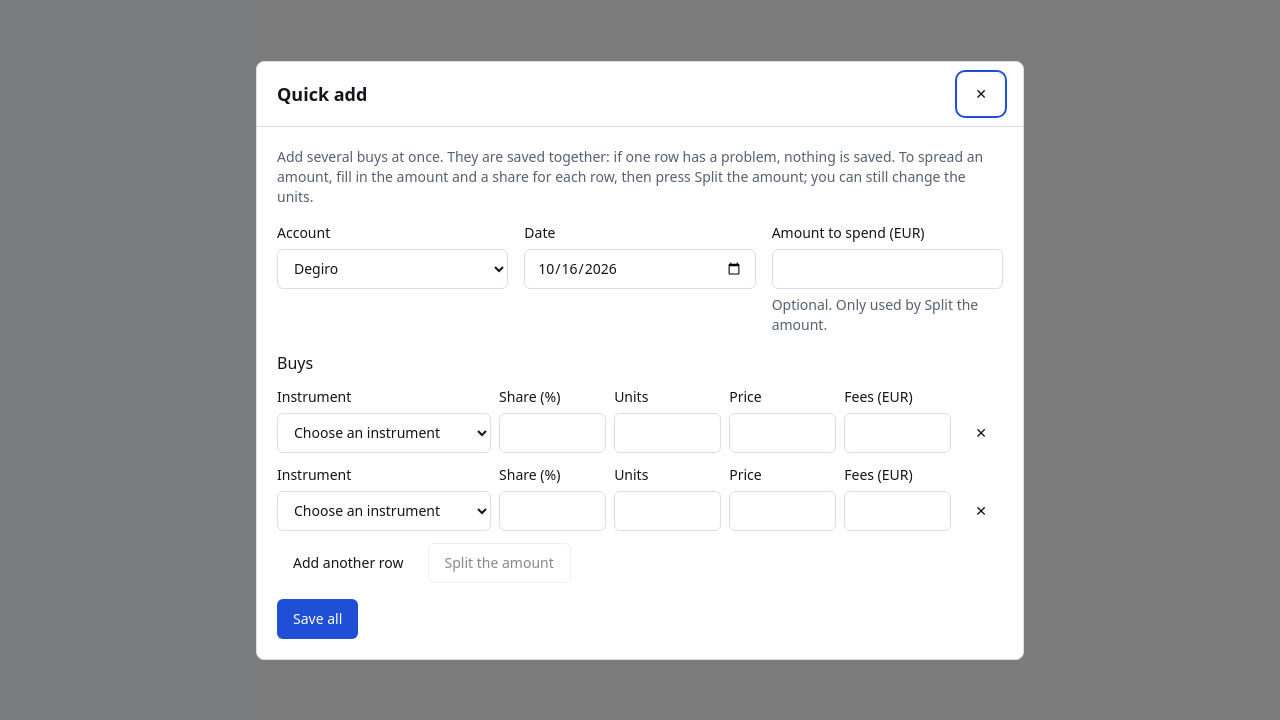
Scenario: quick add (FR-TX-11) › shows every problem the server found, each with its row
Select "Demo World ETF" in the 1st dropdown labelled "Instrument" at (384, 432), box [277,412,491,452]
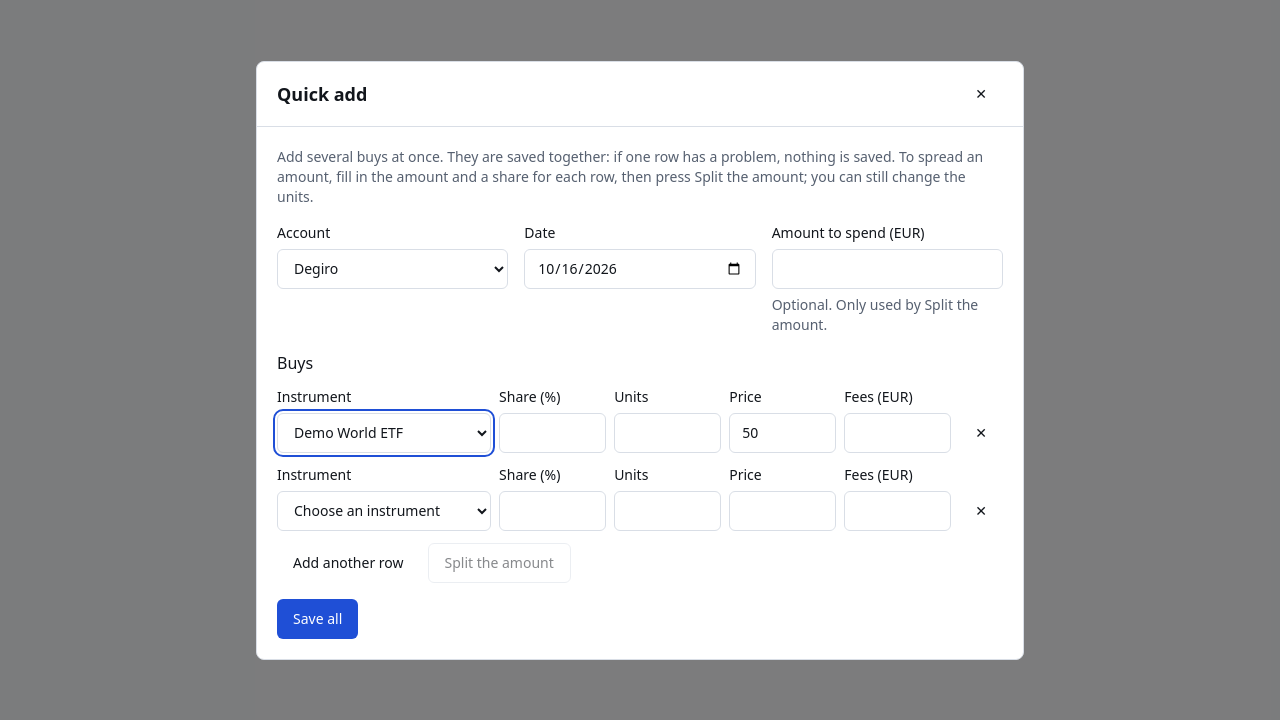
Type "2" into the 1st field labelled "Units" at (668, 432), box [614,412,721,452]
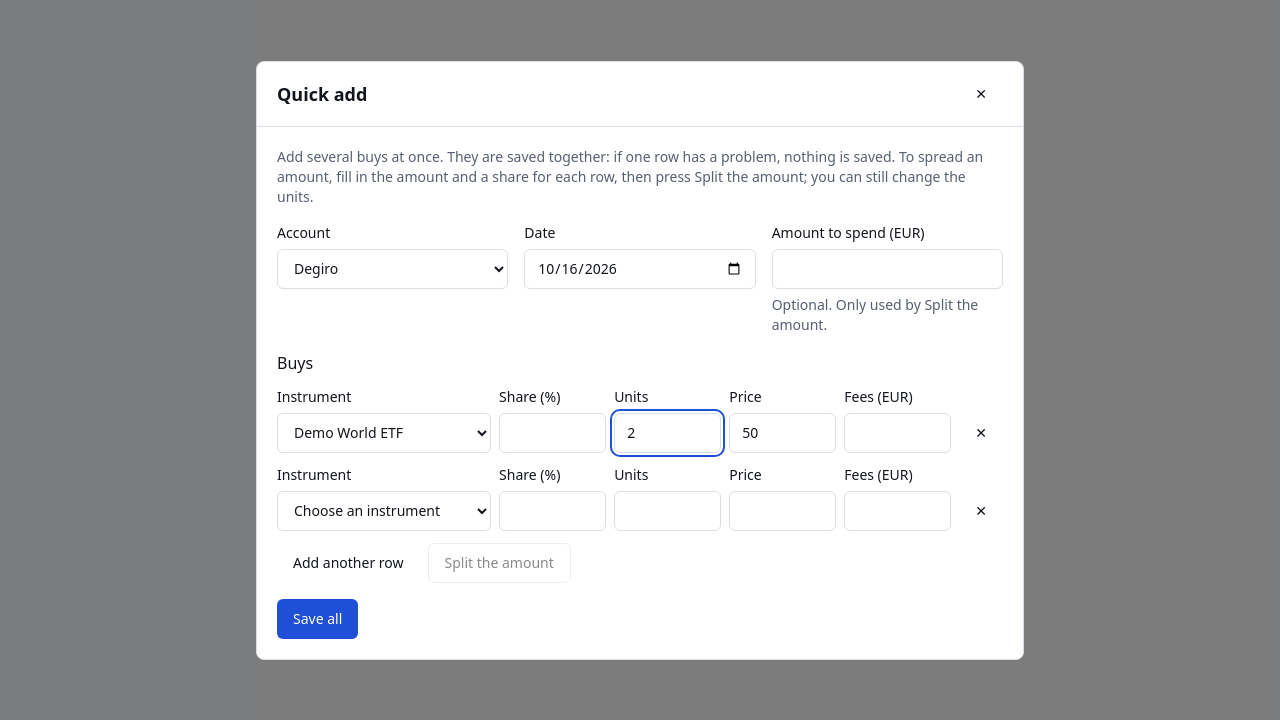
Click the button "Save all" at (318, 618), box [277,598,358,638]
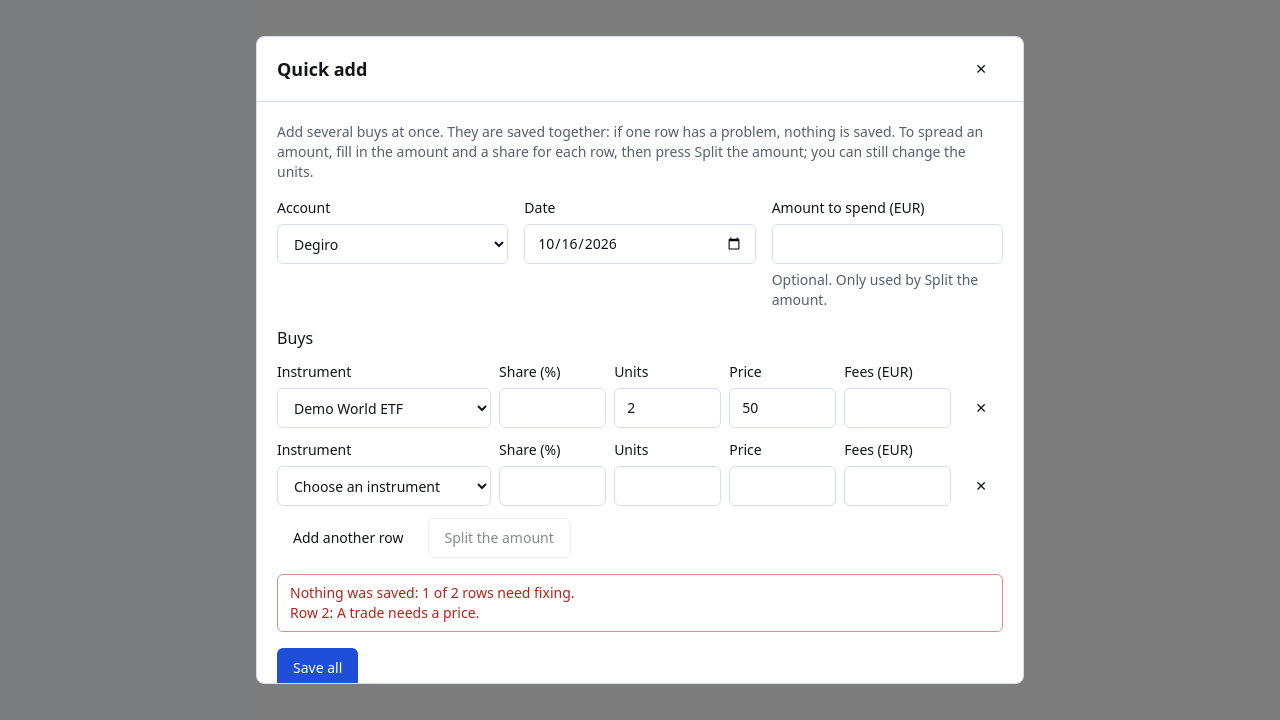
Now the message shows "Nothing was saved", box [290,583,574,602]
Now the message shows "Row 2: A trade needs a price.", box [290,603,479,622]
